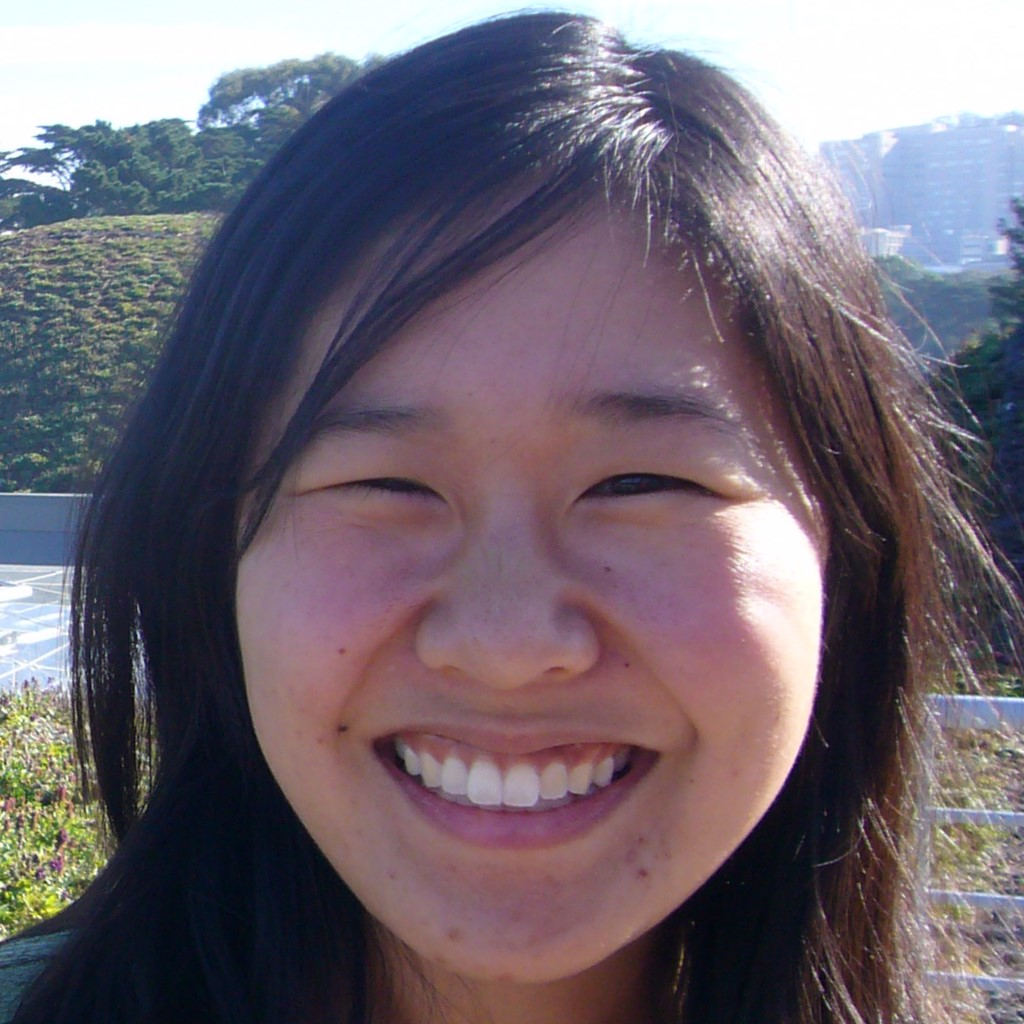sin_mascara: (225, 85, 843, 989)
